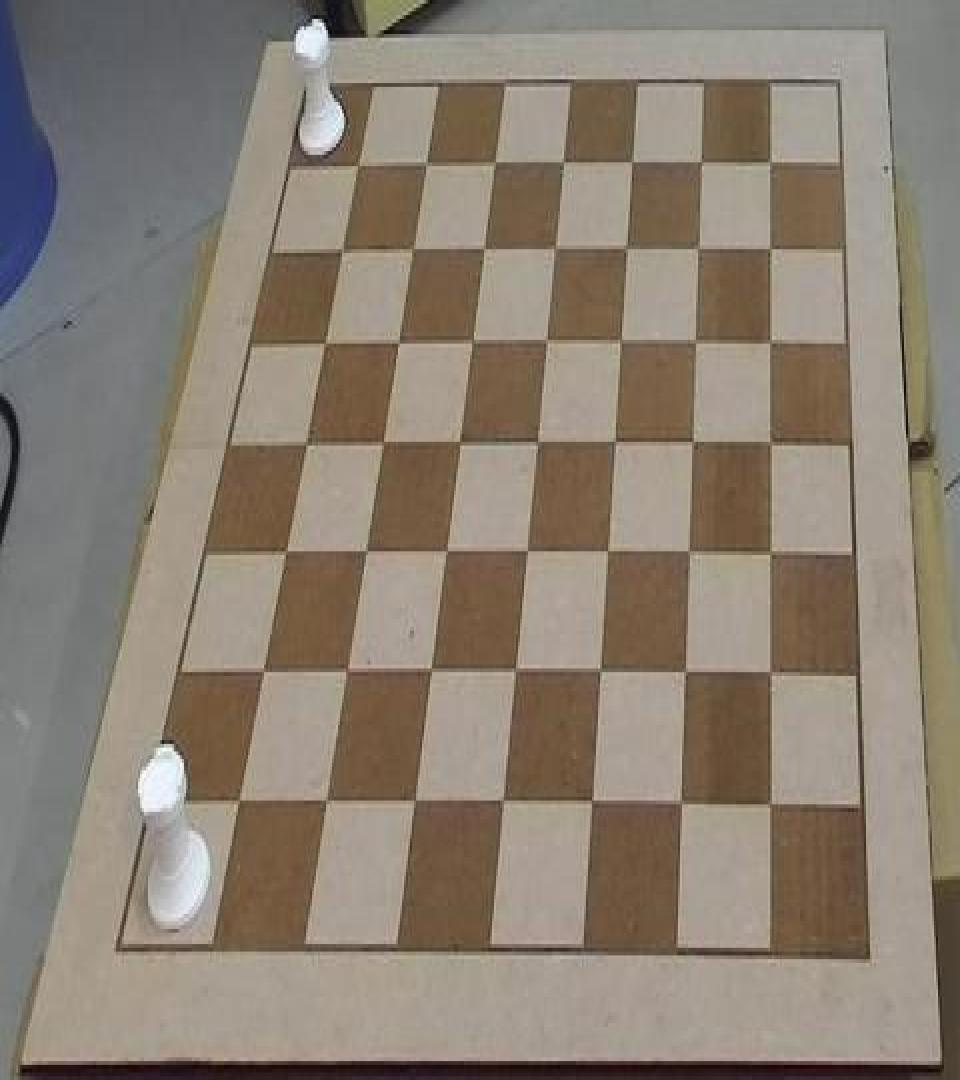xcorner: (761, 144, 781, 182), (692, 144, 712, 182), (623, 144, 643, 182), (554, 144, 574, 182), (485, 144, 505, 182), (416, 144, 436, 182), (347, 144, 367, 182), (761, 230, 781, 268), (689, 230, 709, 268), (617, 230, 637, 268), (546, 230, 566, 268), (474, 230, 494, 268), (403, 230, 423, 268), (331, 230, 351, 268), (761, 324, 781, 362), (686, 322, 706, 360), (612, 322, 632, 360), (537, 322, 557, 360), (463, 322, 483, 360), (388, 322, 408, 360), (314, 322, 334, 360), (761, 424, 781, 462), (683, 424, 703, 462), (606, 424, 626, 462), (528, 424, 548, 462), (450, 424, 470, 462), (373, 424, 393, 462), (295, 423, 315, 461), (761, 536, 781, 574), (680, 534, 700, 572), (599, 534, 619, 572), (518, 534, 538, 572), (437, 534, 457, 572), (356, 534, 376, 572), (275, 532, 295, 570), (762, 655, 782, 693), (677, 655, 697, 693), (592, 655, 612, 693), (507, 653, 527, 691), (422, 653, 442, 691), (337, 653, 357, 691), (253, 653, 273, 691), (762, 787, 782, 825), (673, 787, 693, 825), (584, 786, 604, 824), (495, 786, 515, 824), (406, 786, 426, 824), (317, 786, 337, 824), (229, 784, 249, 822)
